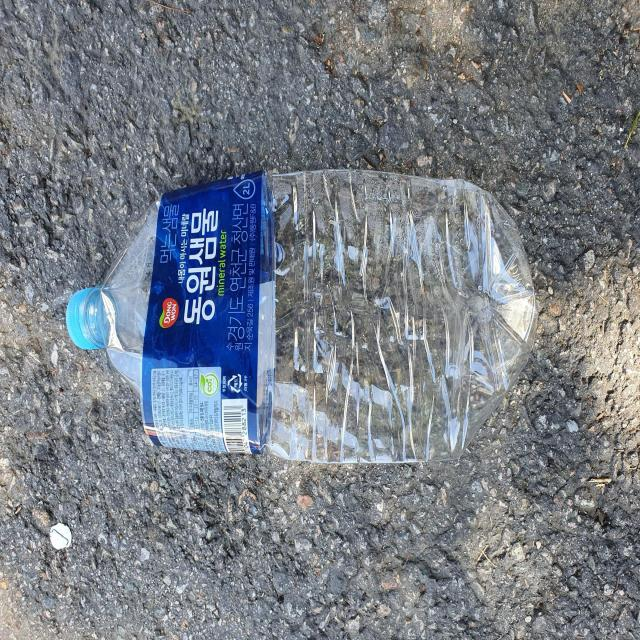plastic: (65, 169, 538, 463)
